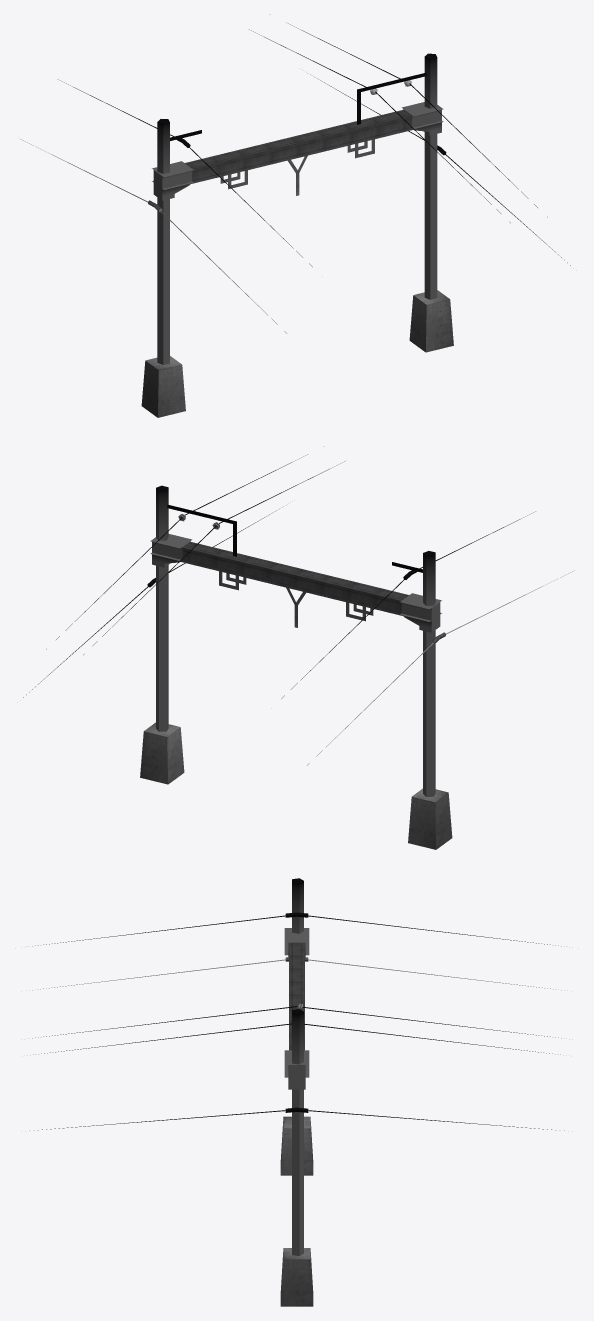
Rendered from KASENCHU_KQ01.glb.
3 views of the same model, one above another, from view 1: azimuth 30°, elevation 25°; view 2: azimuth 150°, elevation 25°; view 3: azimuth 270°, elevation 25° (orthographic).
Visible parts, largest first — view 1: Base_Block; view 2: Base_Block; view 3: Base_Block.
Part boxes in pixels (box(x1,y1,x2,y2)): Base_Block: box(21, 22, 570, 417); Base_Block: box(23, 454, 574, 849); Base_Block: box(29, 878, 564, 1306).
Size of the model in its own units: 30.3 by 28.07 by 50.
5 materials, 5 textured.
